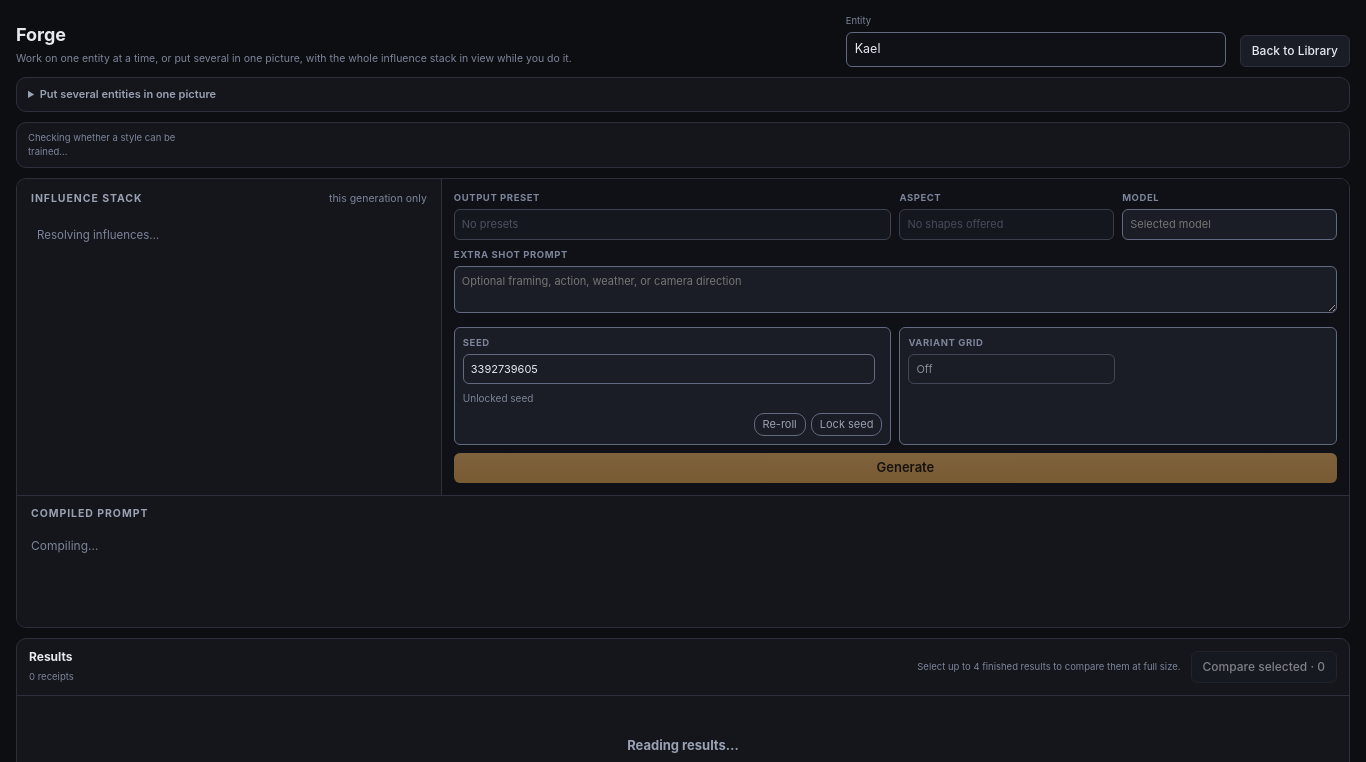
Forge mode › keeps one subject selected while moving between Forge histories
This screenshot has width=1366, height=762.
Press ArrowDown in the dropdown named "Forge entity", box [846, 32, 1226, 67]
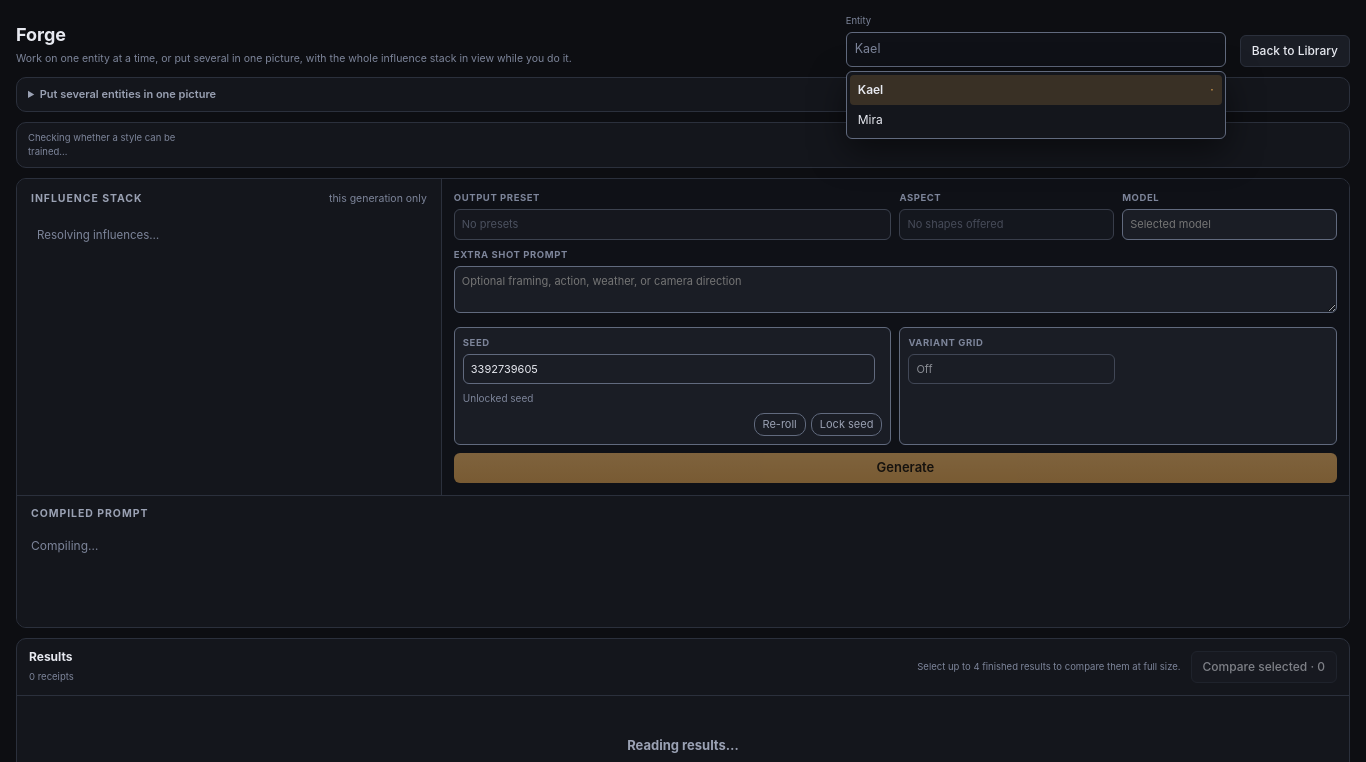
Click the option "Mira" at point(870, 120), box [858, 112, 883, 127]
(page scrolled)
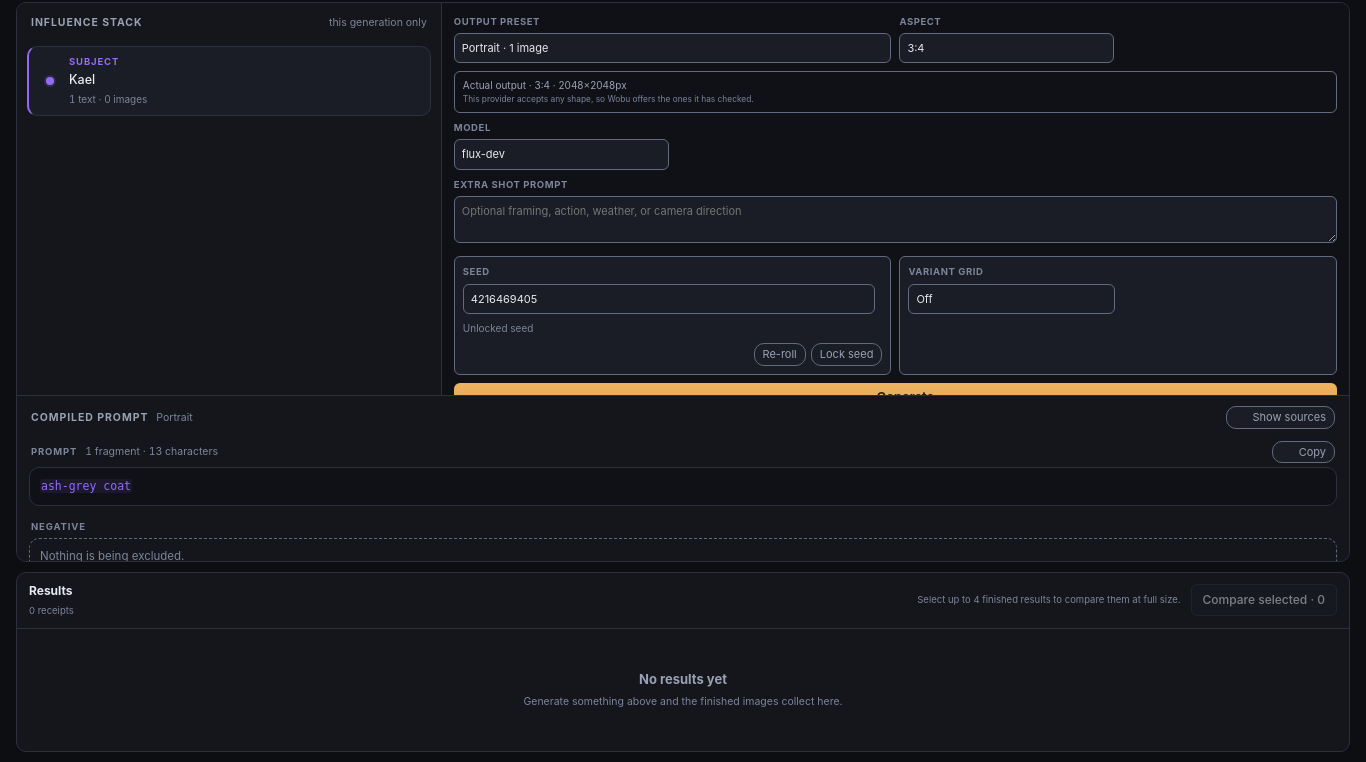
Now the element named "Forge results for Mira" is shown, box [16, 572, 1350, 752]
